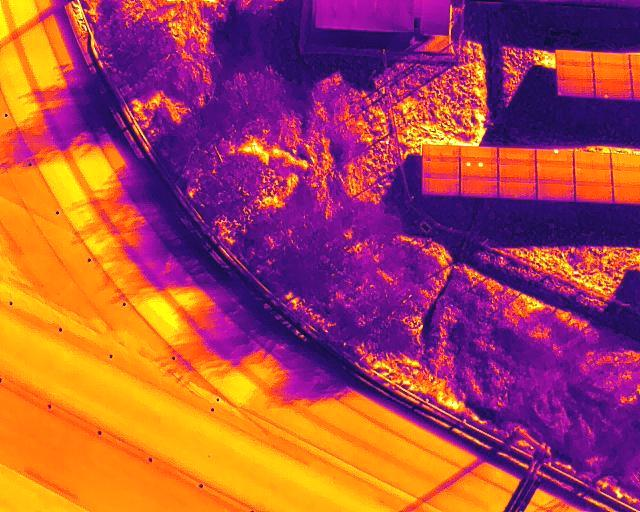Cell: (594, 82, 634, 99), (536, 149, 573, 163)
Cell-Multi: (459, 162, 498, 179)
No-Anomaly: (498, 180, 537, 198), (537, 163, 575, 181), (575, 185, 613, 203), (422, 160, 459, 178), (459, 179, 498, 196), (574, 168, 612, 185), (422, 178, 460, 195), (497, 163, 537, 179), (536, 182, 574, 198), (556, 50, 593, 66), (459, 147, 497, 162), (593, 67, 633, 81), (558, 80, 593, 96), (574, 153, 611, 168), (593, 52, 630, 67), (423, 146, 459, 161), (498, 148, 536, 162), (556, 67, 592, 80)
